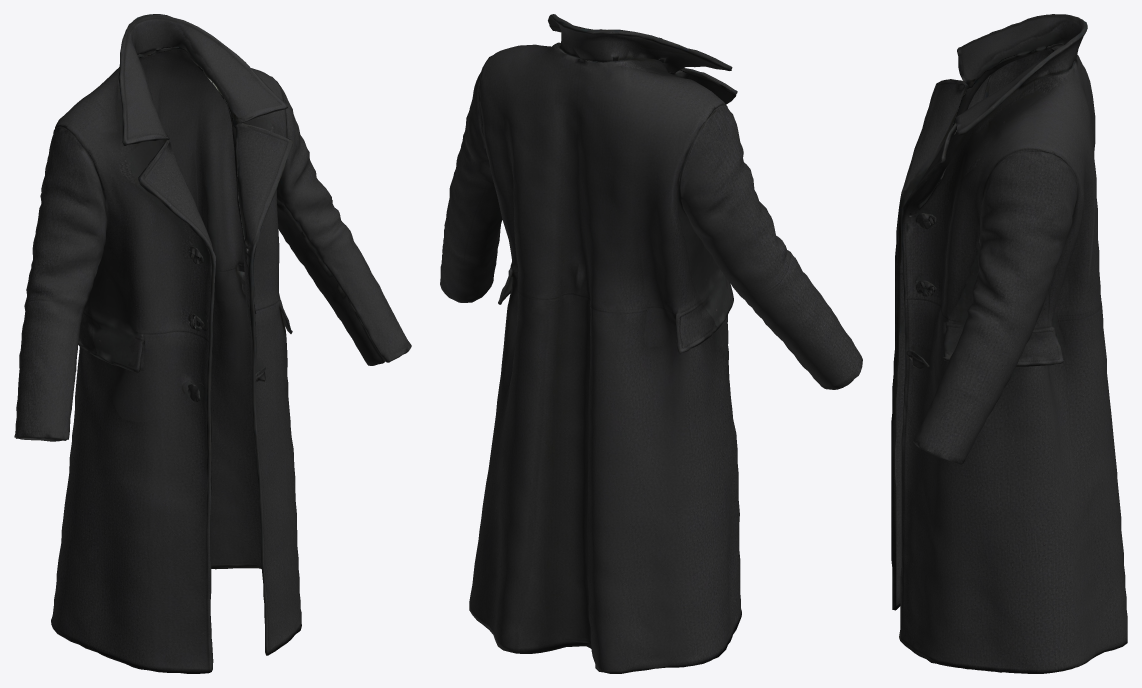
Rendered from coat_leather_jacket_3d_model_free.glb.
The picture shows the model from 3 angles, left to right: view 1: azimuth 30°, elevation 25°; view 2: azimuth 150°, elevation 25°; view 3: azimuth 270°, elevation 25°; orthographic projection. The views are drawn at different scales.
Visible parts, largest first — view 1: tripo_node_3c89ec7b-c406-4d2e-a57b-a673a813f412_0; view 2: tripo_node_3c89ec7b-c406-4d2e-a57b-a673a813f412_0; view 3: tripo_node_3c89ec7b-c406-4d2e-a57b-a673a813f412_0.
Part boxes in pixels (x1,y1,x2,y2): tripo_node_3c89ec7b-c406-4d2e-a57b-a673a813f412_0: (14, 14, 411, 673); tripo_node_3c89ec7b-c406-4d2e-a57b-a673a813f412_0: (440, 14, 862, 673); tripo_node_3c89ec7b-c406-4d2e-a57b-a673a813f412_0: (891, 14, 1127, 673).
Bounding box in the file's own units: 0.6986 × 1 × 0.3581.
Materials: 1 (1 with a texture image).
